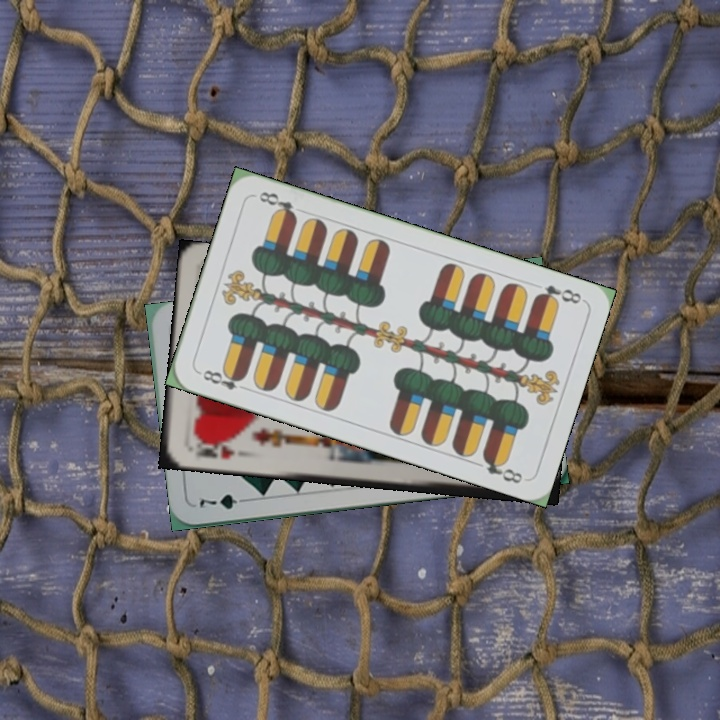E8: (195, 365, 252, 394), (531, 280, 584, 307)
G7: (195, 489, 253, 512)
HK: (192, 435, 237, 462)
